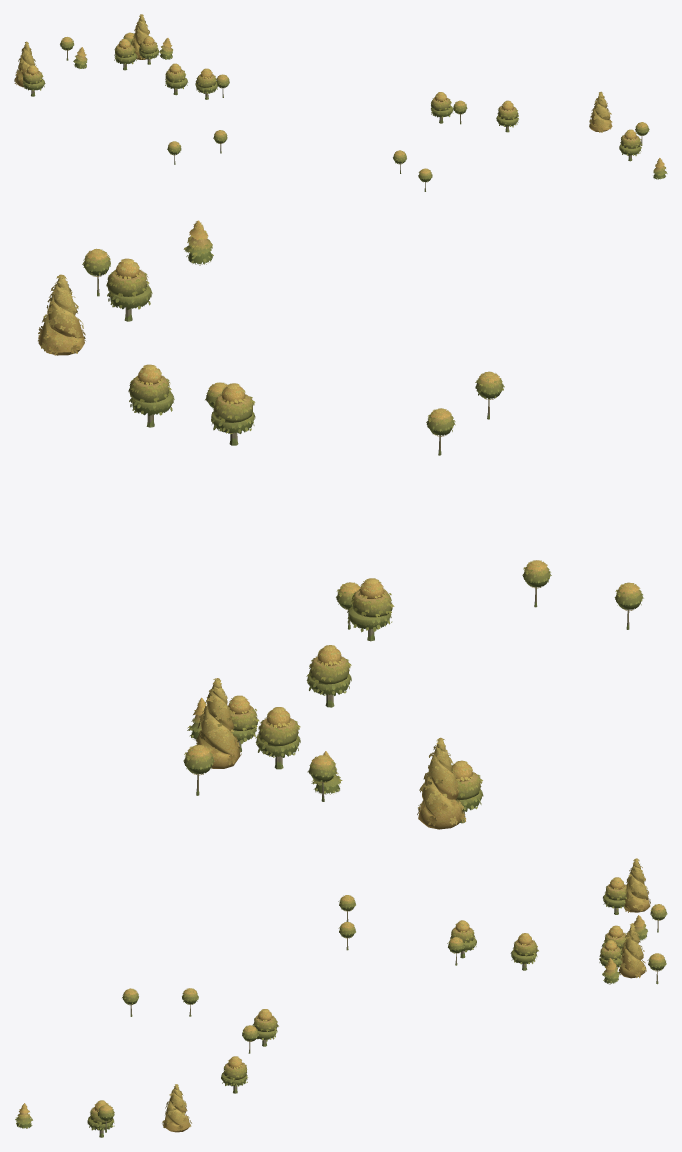
File: pref_sm_garden_tree_vertexcolor_02_lv2.fbx
3 renders of one model, top to bottom at view 1: azimuth 30°, elevation 25°; view 2: azimuth 150°, elevation 25°; view 3: azimuth 270°, elevation 25°, orthographic. The views are drawn at different scales.
Visible parts, largest first — view 1: pref_sm_garden_tree_vertexcolor_02_lv2; view 2: pref_sm_garden_tree_vertexcolor_02_lv2; view 3: pref_sm_garden_tree_vertexcolor_02_lv2.
Boxes of the visible parts, x1,y1,x2,y2 form: pref_sm_garden_tree_vertexcolor_02_lv2: (14,14,667,191); pref_sm_garden_tree_vertexcolor_02_lv2: (38,220,643,829); pref_sm_garden_tree_vertexcolor_02_lv2: (15,858,667,1137).
Bounding box in the file's own units: 50.8 × 5.99 × 58.36.
